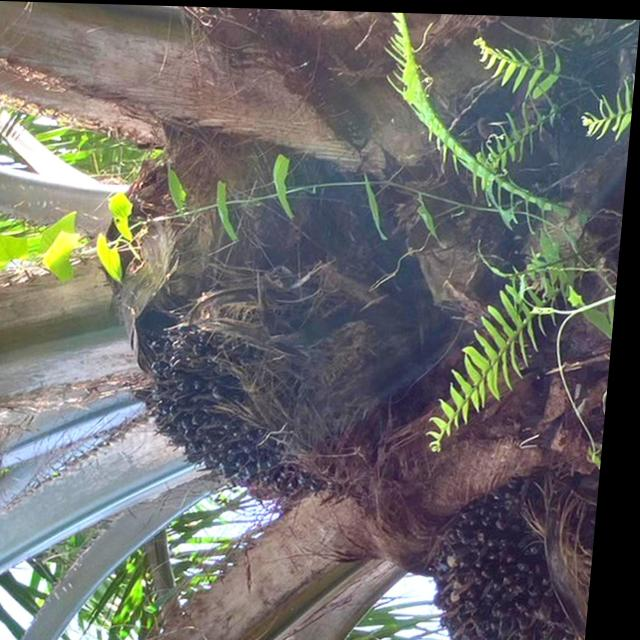unripe: (140, 319, 396, 494)
